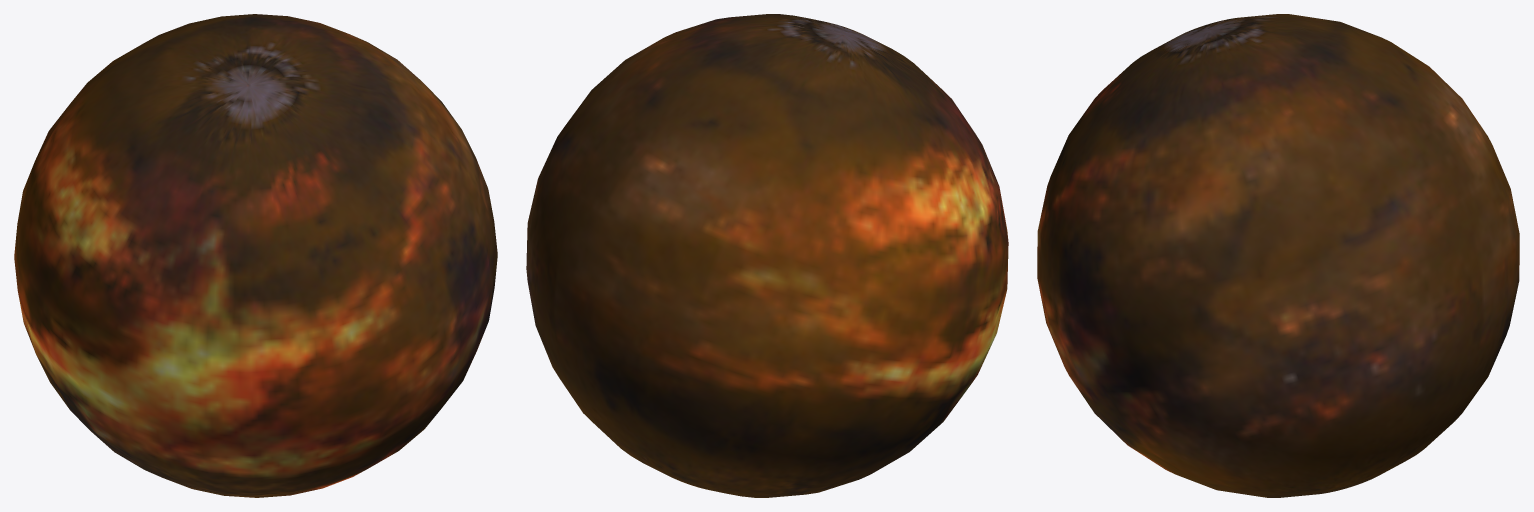
The model's file is ts_xgcj002.FBX.
3 renders of one model, left to right at view 1: azimuth 30°, elevation 25°; view 2: azimuth 150°, elevation 25°; view 3: azimuth 270°, elevation 25°, orthographic.
Visible parts, largest first — view 1: ts_xgcj002; view 2: ts_xgcj002; view 3: ts_xgcj002.
Part boxes in pixels (box(x1,y1,x2,y2)): ts_xgcj002: box(14, 14, 497, 497); ts_xgcj002: box(526, 14, 1008, 497); ts_xgcj002: box(1037, 14, 1519, 497).
Bounding box in the file's own units: 0.4718 × 0.4723 × 0.4708.
